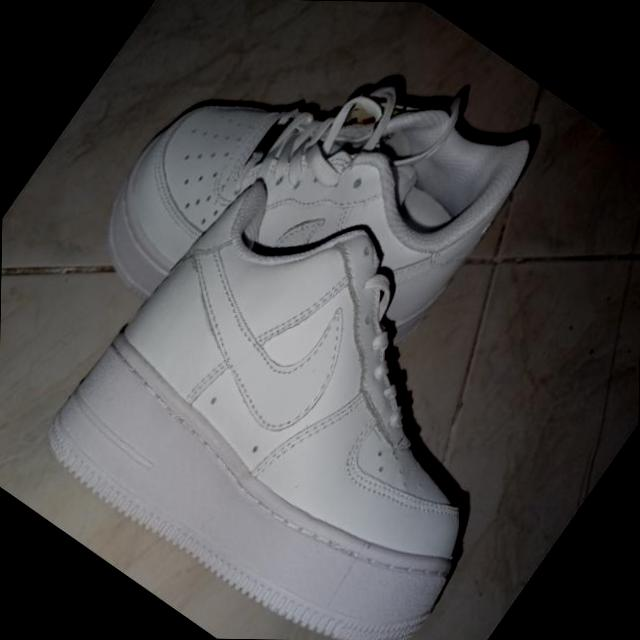nike_fake_airforce: (20, 143, 591, 640), (70, 0, 567, 446)
